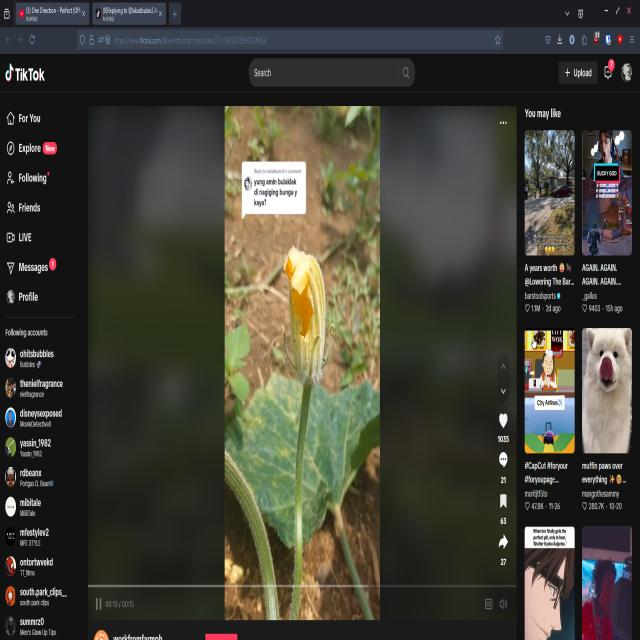flower: (281, 241, 327, 391)
